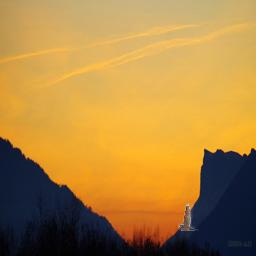Cuckoo: (179, 203, 200, 231)
